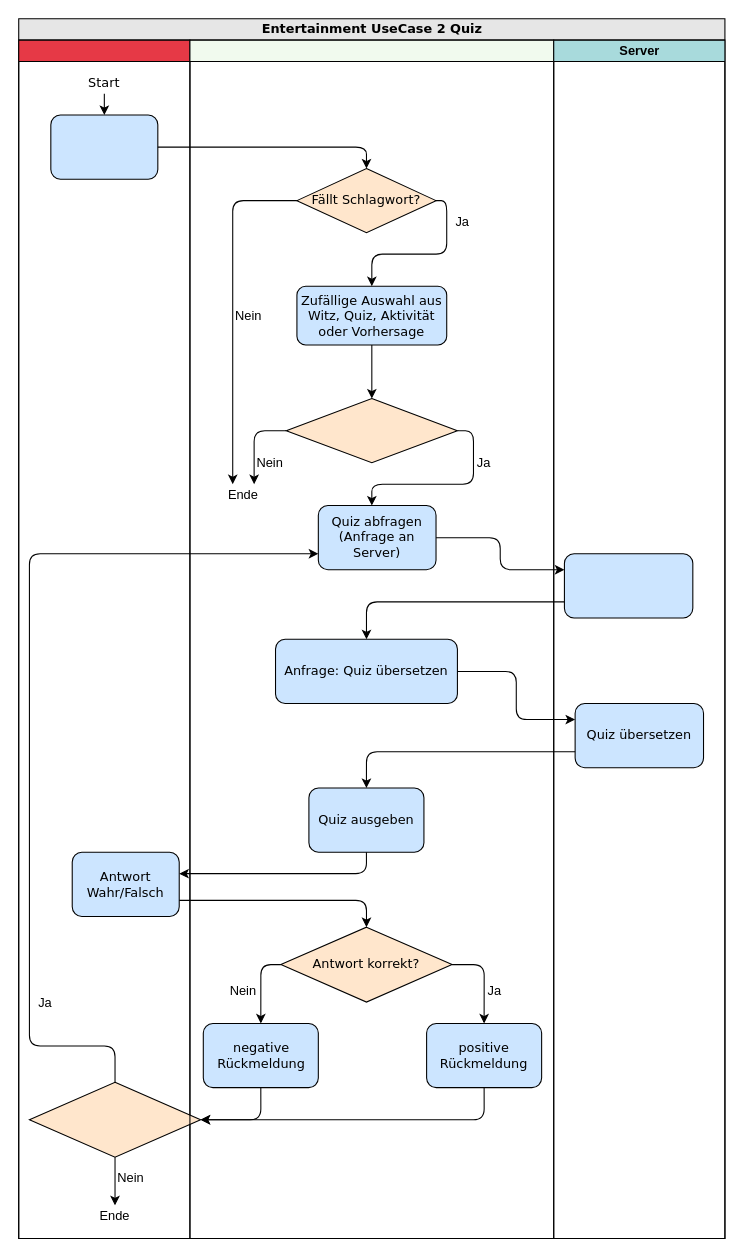
This 744x1257 diagram has some shape labels left out. Each missing label, with the box of its shape:
Anfrage: (50, 114, 158, 179)
Benutzer: (18, 39, 190, 1239)
Quiz ausgewählt?: (285, 398, 457, 463)
Quiz auswählen (Wahr/Falsch): (563, 553, 693, 618)
Weiteres Quiz erwünscht?: (28, 1081, 201, 1157)
YAPA: (189, 39, 554, 1239)
